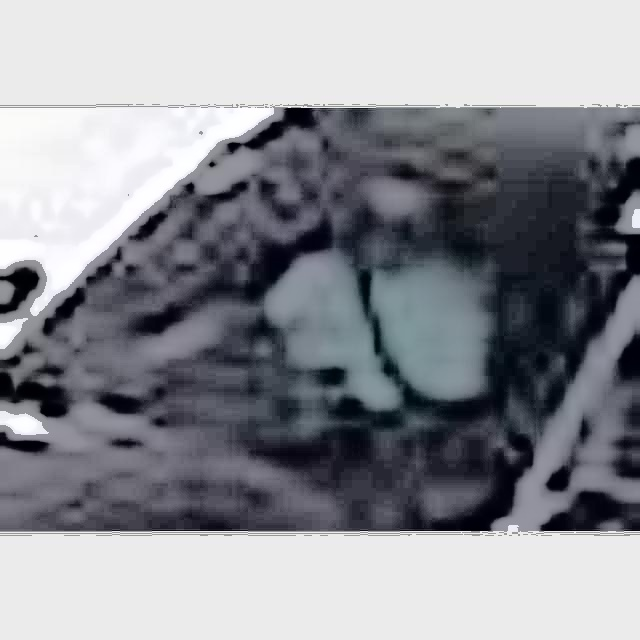pakai: (217, 180, 506, 438)
